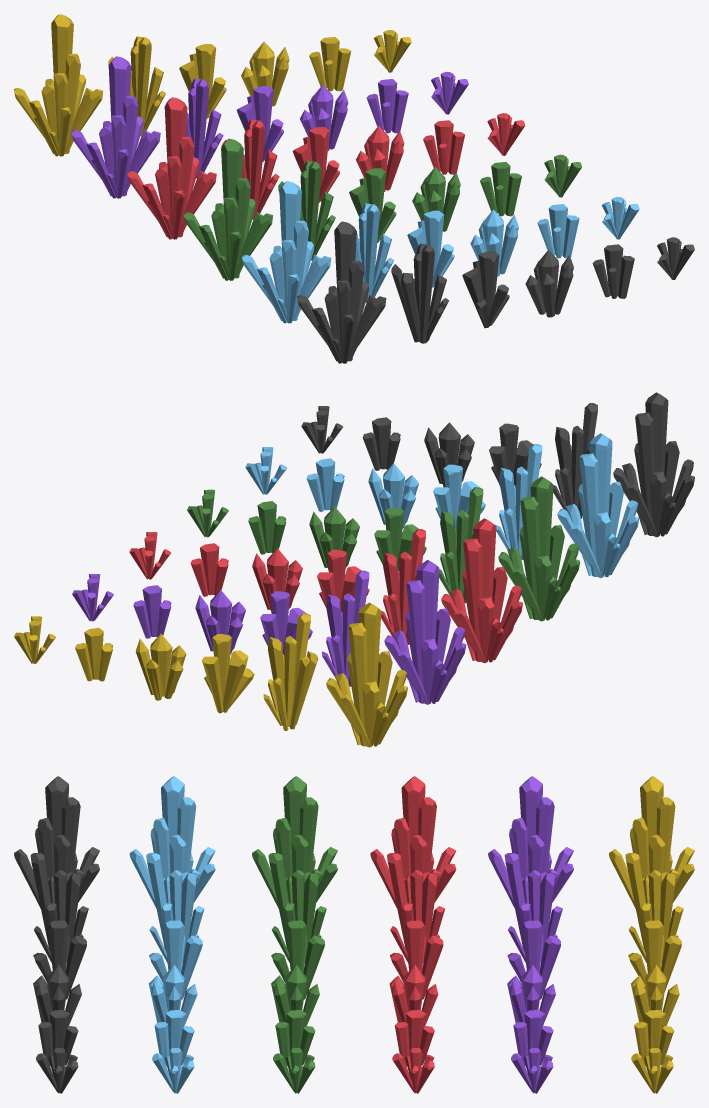
The model's file is CaveCrystals.fbx.
3 renders of one model, top to bottom at view 1: azimuth 30°, elevation 25°; view 2: azimuth 150°, elevation 25°; view 3: azimuth 270°, elevation 25°, orthographic. The views are drawn at different scales.
Visible parts, largest first — view 1: Crystal_1_Grey, Crystal_1_Green, Crystal_1_Gold, Crystal_1_Red, Crystal_1_Purple, Crystal_1_Blue, Crystal_2_Grey, Crystal_2_Blue, Crystal_2_Purple, Crystal_2_Red, Crystal_3_Grey, Crystal_4_Grey (+24 smaller); view 2: Crystal_1_Gold, Crystal_1_Purple, Crystal_1_Blue, Crystal_1_Green, Crystal_1_Red, Crystal_1_Grey, Crystal_2_Gold, Crystal_2_Grey, Crystal_2_Red, Crystal_2_Green, Crystal_3_Gold, Crystal_2_Purple (+24 smaller); view 3: Crystal_1_Grey, Crystal_1_Green, Crystal_1_Red, Crystal_1_Blue, Crystal_1_Purple, Crystal_1_Gold, Crystal_2_Red, Crystal_2_Grey, Crystal_2_Purple, Crystal_2_Blue, Crystal_2_Gold, Crystal_2_Green (+24 smaller).
Boxes of the visible parts, box(x1,y1,x2,y2) form: Crystal_1_Grey: box(297, 221, 386, 363); Crystal_1_Green: box(184, 138, 272, 280); Crystal_1_Gold: box(14, 14, 103, 156); Crystal_1_Red: box(127, 97, 216, 239); Crystal_1_Purple: box(71, 56, 160, 198); Crystal_1_Blue: box(242, 181, 331, 323); Crystal_2_Grey: box(391, 243, 449, 343); Crystal_2_Blue: box(355, 203, 394, 302); Crystal_2_Purple: box(165, 78, 223, 178); Crystal_2_Red: box(221, 119, 279, 219); Crystal_3_Grey: box(462, 251, 509, 328); Crystal_4_Grey: box(525, 250, 573, 317); Crystal_1_Gold: box(326, 602, 407, 747); Crystal_1_Purple: box(384, 560, 466, 704); Crystal_1_Blue: box(557, 433, 638, 578); Crystal_1_Green: box(498, 476, 579, 621); Crystal_1_Red: box(441, 518, 522, 663); Crystal_1_Grey: box(613, 392, 694, 537); Crystal_2_Gold: box(263, 613, 318, 730); Crystal_2_Grey: box(553, 403, 597, 518); Crystal_2_Red: box(381, 529, 425, 644); Crystal_2_Green: box(439, 487, 483, 603); Crystal_3_Gold: box(202, 634, 254, 713); Crystal_2_Purple: box(322, 570, 369, 686); Crystal_1_Grey: box(14, 776, 99, 908); Crystal_1_Green: box(252, 776, 337, 908); Crystal_1_Red: box(370, 776, 456, 908); Crystal_1_Blue: box(129, 776, 215, 908); Crystal_1_Purple: box(488, 776, 573, 908); Crystal_1_Gold: box(609, 776, 694, 908); Crystal_2_Red: box(387, 853, 445, 962); Crystal_2_Grey: box(30, 853, 88, 962); Crystal_2_Purple: box(504, 853, 562, 962); Crystal_2_Blue: box(146, 853, 204, 962); Crystal_2_Gold: box(625, 853, 683, 962); Crystal_2_Green: box(268, 853, 326, 962).
Bounding box in the file's own units: 575 × 206 × 857.
